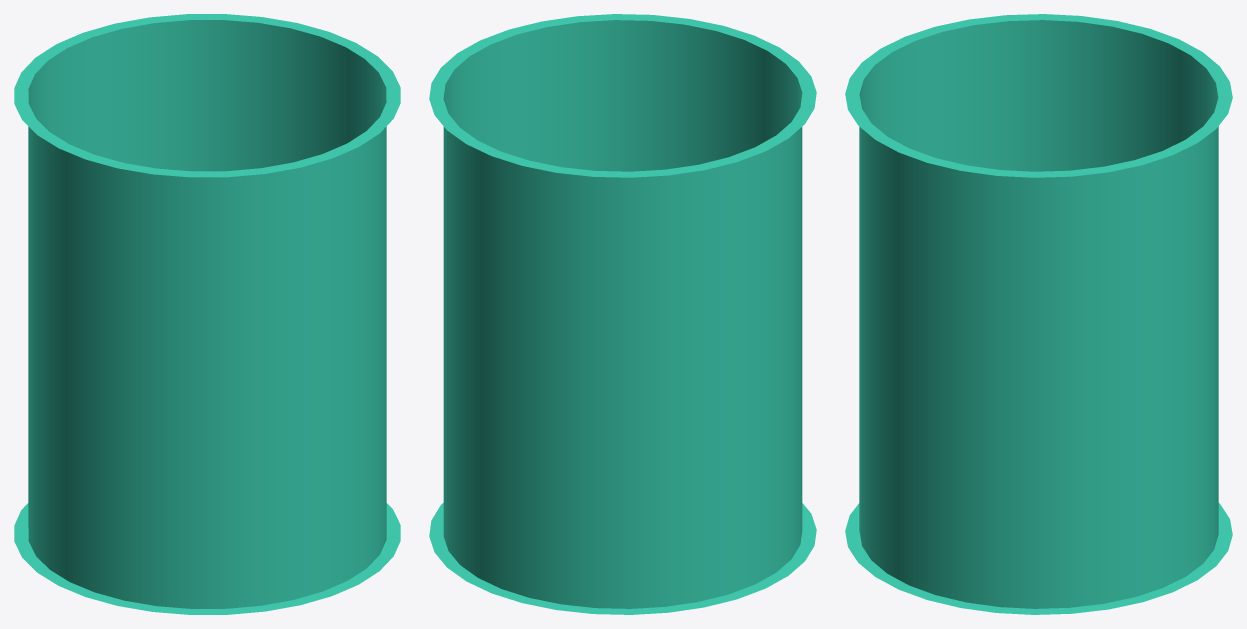
The model's file is Floor_A_LadderEx_3m.FBX.
3 views of the same model, side by side, from view 1: azimuth 30°, elevation 25°; view 2: azimuth 150°, elevation 25°; view 3: azimuth 270°, elevation 25° (orthographic).
Visible parts, largest first — view 1: Floor_A_LadderEx_3m; view 2: Floor_A_LadderEx_3m; view 3: Floor_A_LadderEx_3m.
Part boxes in pixels (x1,y1,x2,y2): Floor_A_LadderEx_3m: [14, 14, 400, 614]; Floor_A_LadderEx_3m: [429, 14, 816, 614]; Floor_A_LadderEx_3m: [845, 14, 1232, 614].
Size of the model in its own units: 241 by 300 by 241.
